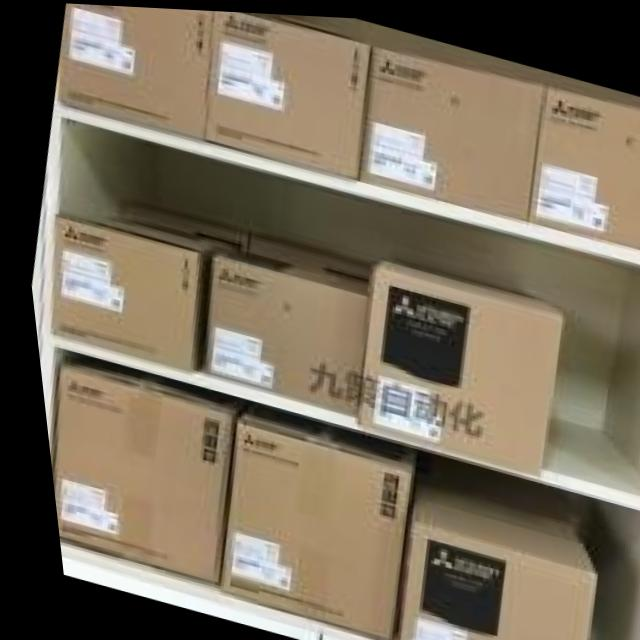box: (344, 255, 556, 472), (203, 410, 404, 638), (43, 365, 232, 583), (356, 36, 544, 213), (383, 479, 587, 640), (45, 215, 238, 372), (192, 248, 364, 411), (202, 9, 370, 175), (51, 3, 209, 140), (522, 75, 640, 245)
